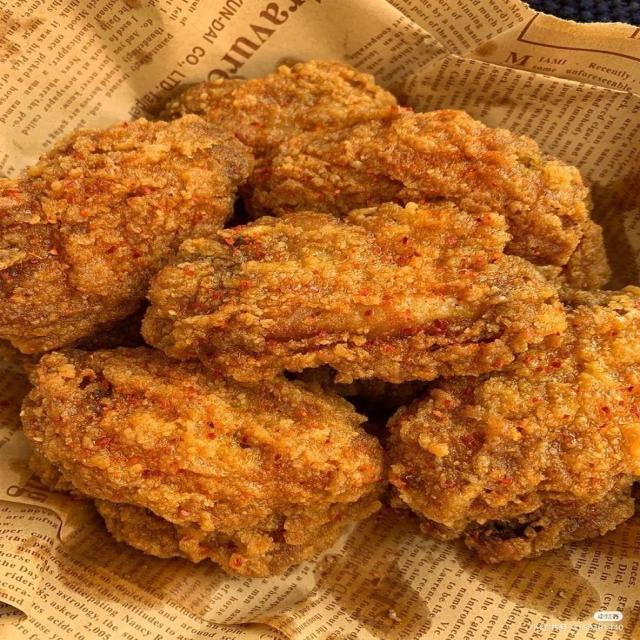Chicken -Fried Chicken-: (14, 329, 352, 573), (144, 187, 523, 384), (0, 70, 229, 379), (243, 66, 592, 256)
